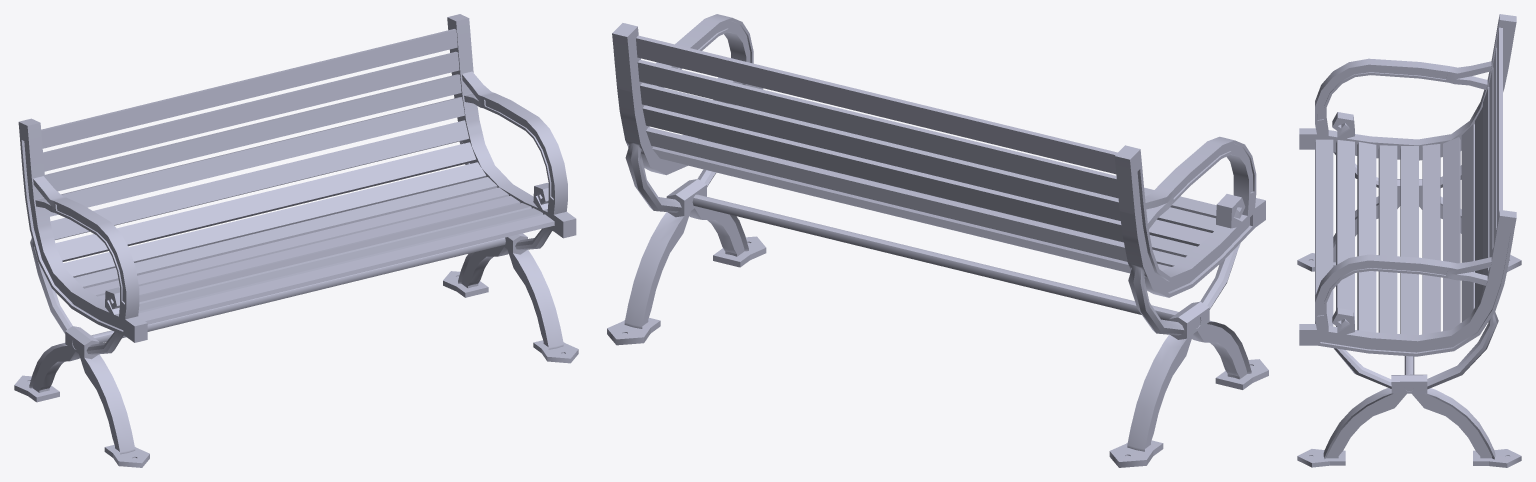
The model's file is bench.glb.
The picture shows the model from 3 angles, left to right: view 1: azimuth 30°, elevation 25°; view 2: azimuth 150°, elevation 25°; view 3: azimuth 270°, elevation 25°; orthographic projection. The views are drawn at different scales.
Parts seen in each view (by area): view 1: Bench_LowRes; view 2: Bench_LowRes; view 3: Bench_LowRes.
Boxes of the visible parts, <box> form: Bench_LowRes: <box>14,14,578,467</box>; Bench_LowRes: <box>607,14,1268,467</box>; Bench_LowRes: <box>1297,14,1521,467</box>.
Bounding box in the file's own units: 8.8 × 4.84 × 3.97.
